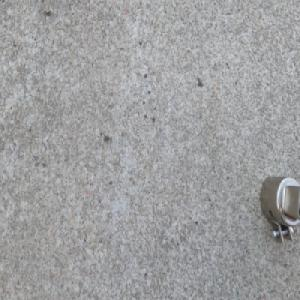MetalPart: (256, 168, 300, 245)
